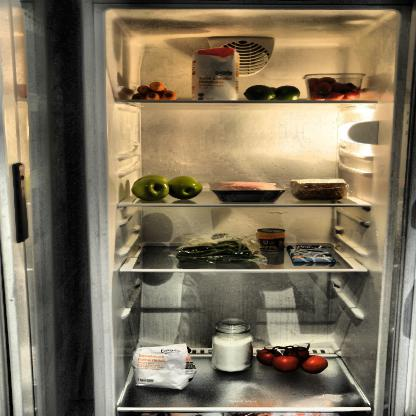apple: (123, 172, 207, 202)
carrot: (130, 81, 181, 102)
chocolate: (287, 245, 338, 264)
corn: (260, 227, 283, 251)
green_beans: (176, 234, 259, 268)
ground_beef: (208, 180, 285, 204)
lime: (245, 83, 304, 102)
potato: (288, 180, 347, 202)
strawberries: (304, 74, 366, 103)
tomato: (254, 342, 330, 374)
